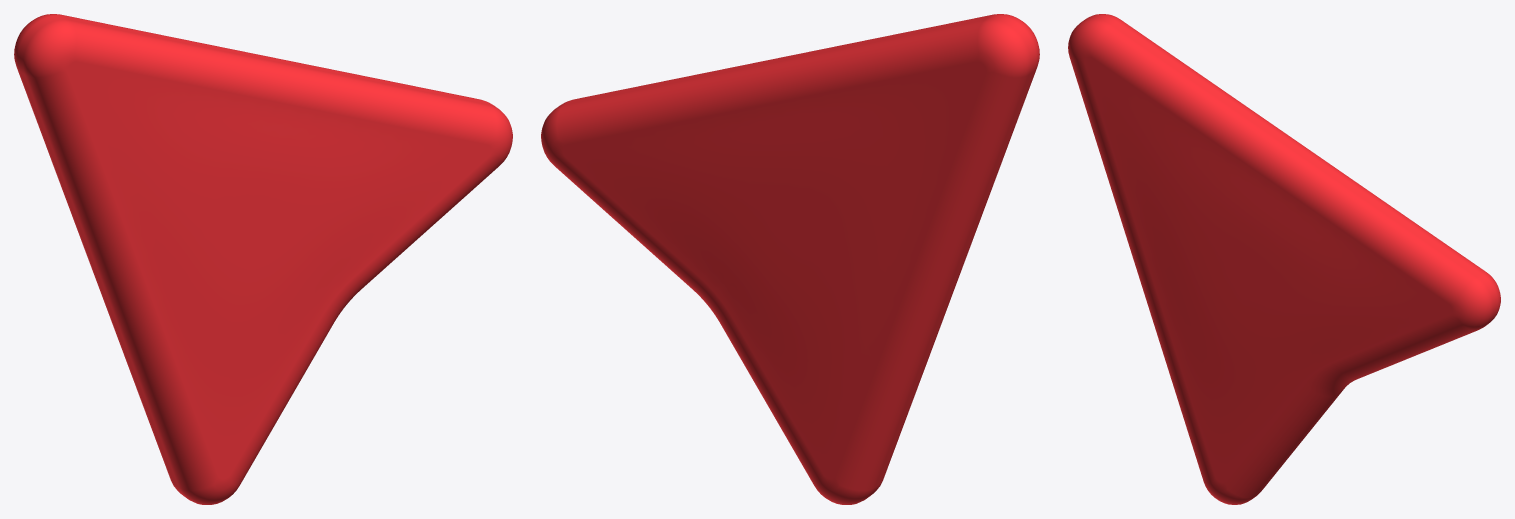
Rendered from cursor-glass.glb.
3 views of the same model, side by side, from view 1: azimuth 30°, elevation 25°; view 2: azimuth 150°, elevation 25°; view 3: azimuth 330°, elevation 25° (orthographic). The views are drawn at different scales.
Visible parts, largest first — view 1: cursor_glass; view 2: cursor_glass; view 3: cursor_glass.
Boxes of the visible parts, x1,y1,x2,y2 form: cursor_glass: (14,14,512,504); cursor_glass: (541,14,1039,504); cursor_glass: (1068,14,1500,504).
Bounding box in the file's own units: 0.9802 × 1 × 0.1296.
